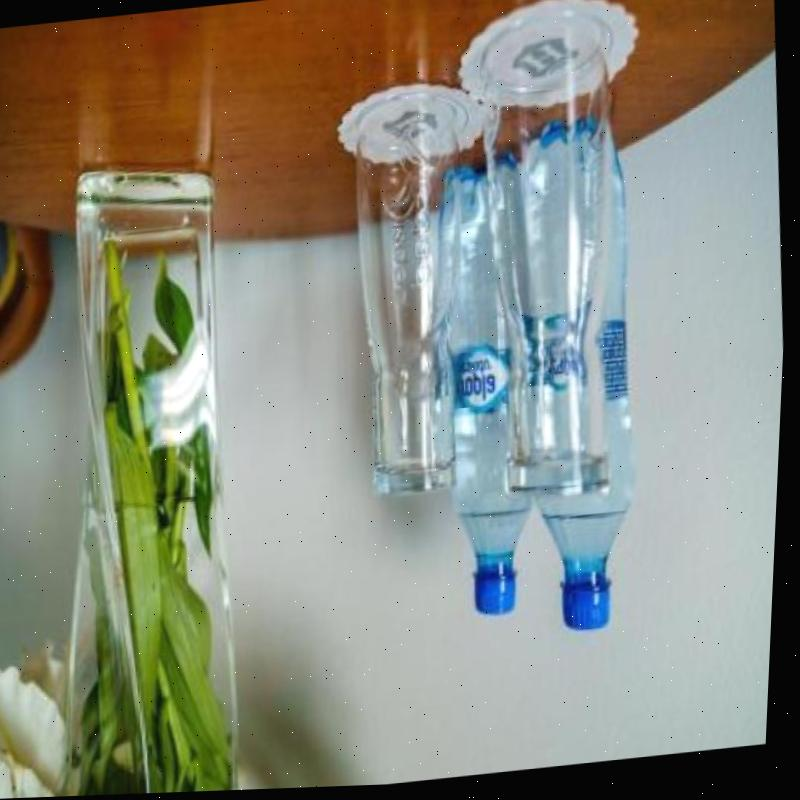botella: (503, 118, 662, 640), (422, 154, 555, 627)
